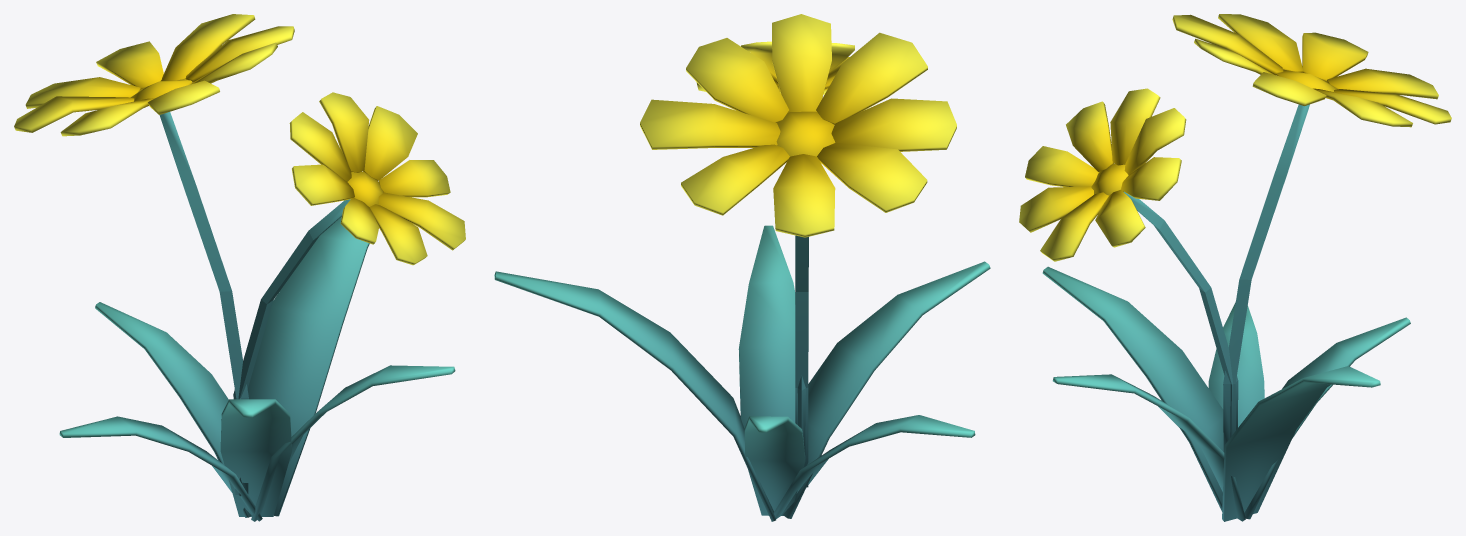
File: plain_flower_1.fbx
3 views of the same model, side by side, from view 1: azimuth 30°, elevation 25°; view 2: azimuth 150°, elevation 25°; view 3: azimuth 270°, elevation 25° (orthographic). The views are drawn at different scales.
Parts seen in each view (by area): view 1: Plain Flower 1; view 2: Plain Flower 1; view 3: Plain Flower 1.
Part boxes in pixels (x1=…): Plain Flower 1: x1=14, y1=14, x2=465, y2=521; Plain Flower 1: x1=494, y1=14, x2=990, y2=521; Plain Flower 1: x1=1019, y1=14, x2=1451, y2=521.
Size of the model in its own units: 102 by 116 by 96.6.
1 material, 1 textured.
